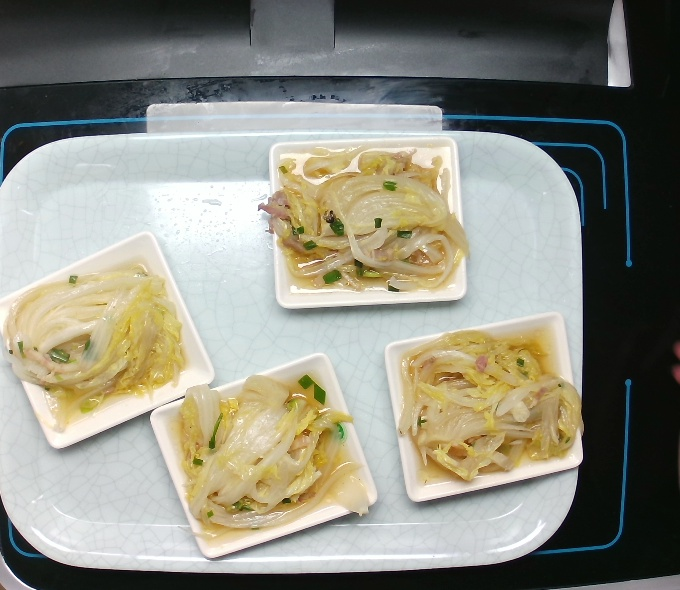wcq-DaBaiCaiRouMou: (170, 371, 372, 542), (1, 257, 191, 434), (257, 144, 473, 299), (396, 328, 583, 487)
